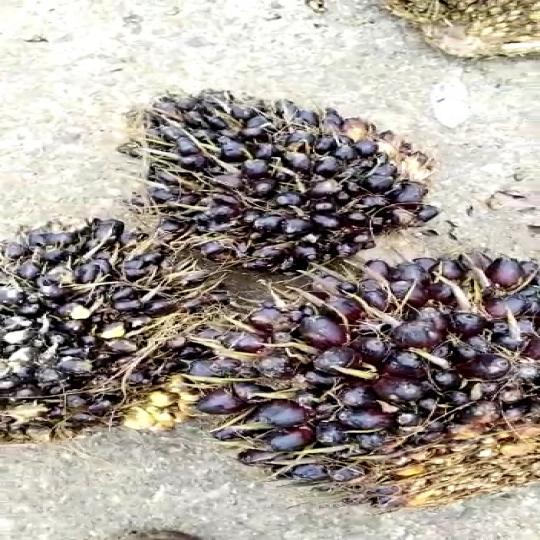mentah: (197, 240, 540, 520), (102, 83, 469, 276), (0, 192, 239, 443)
